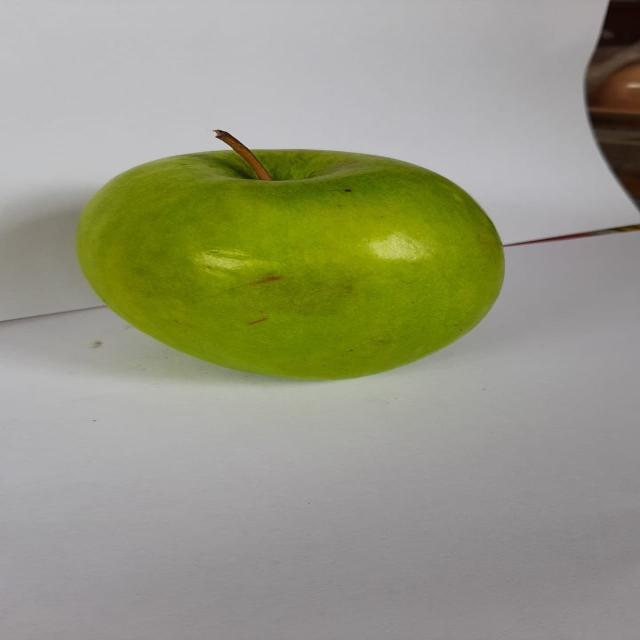50-_ripeness: (54, 122, 515, 390)
